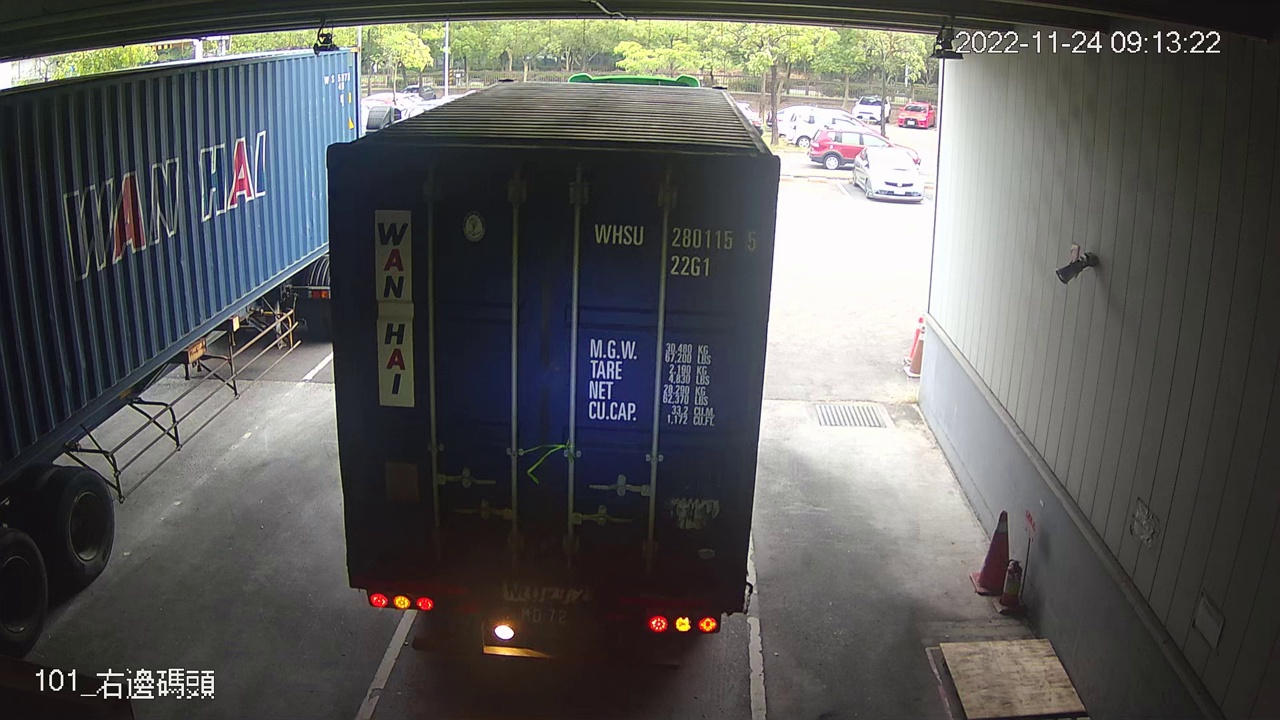container: (585, 216, 765, 283)
